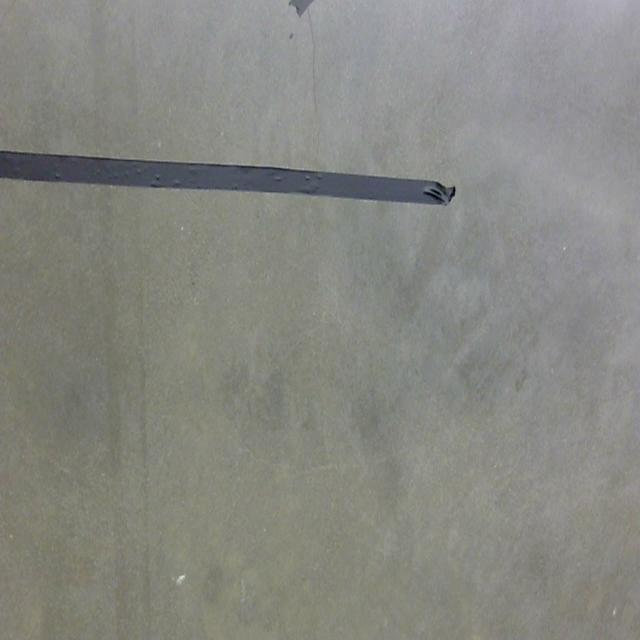tape: (0, 148, 458, 208)
